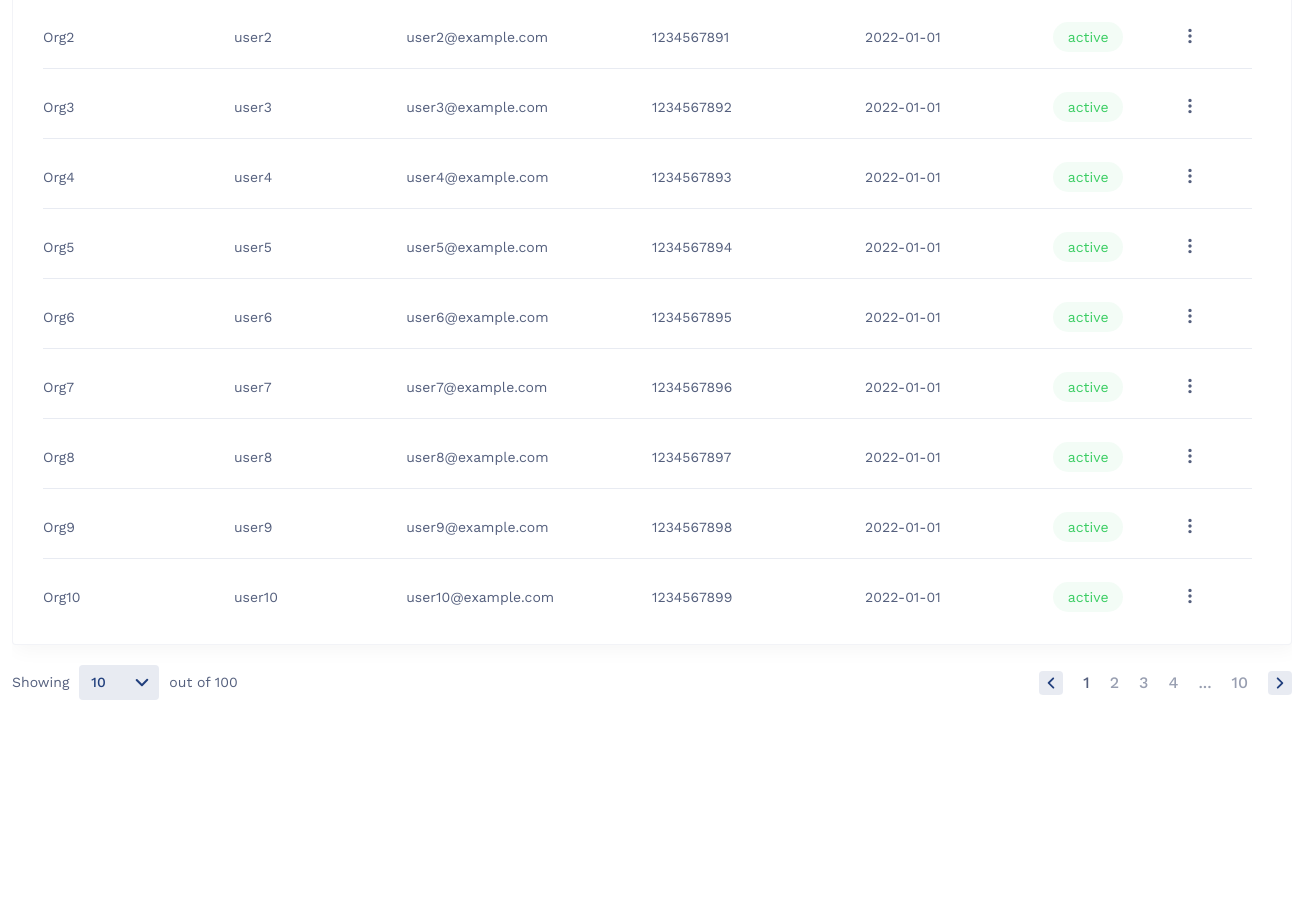
Test case: Users component › updates items per page correctly
(page scrolled)
Select "20" in the dropdown at [119, 683], box x1=79 y1=665 x2=159 y2=700
(page scrolled)
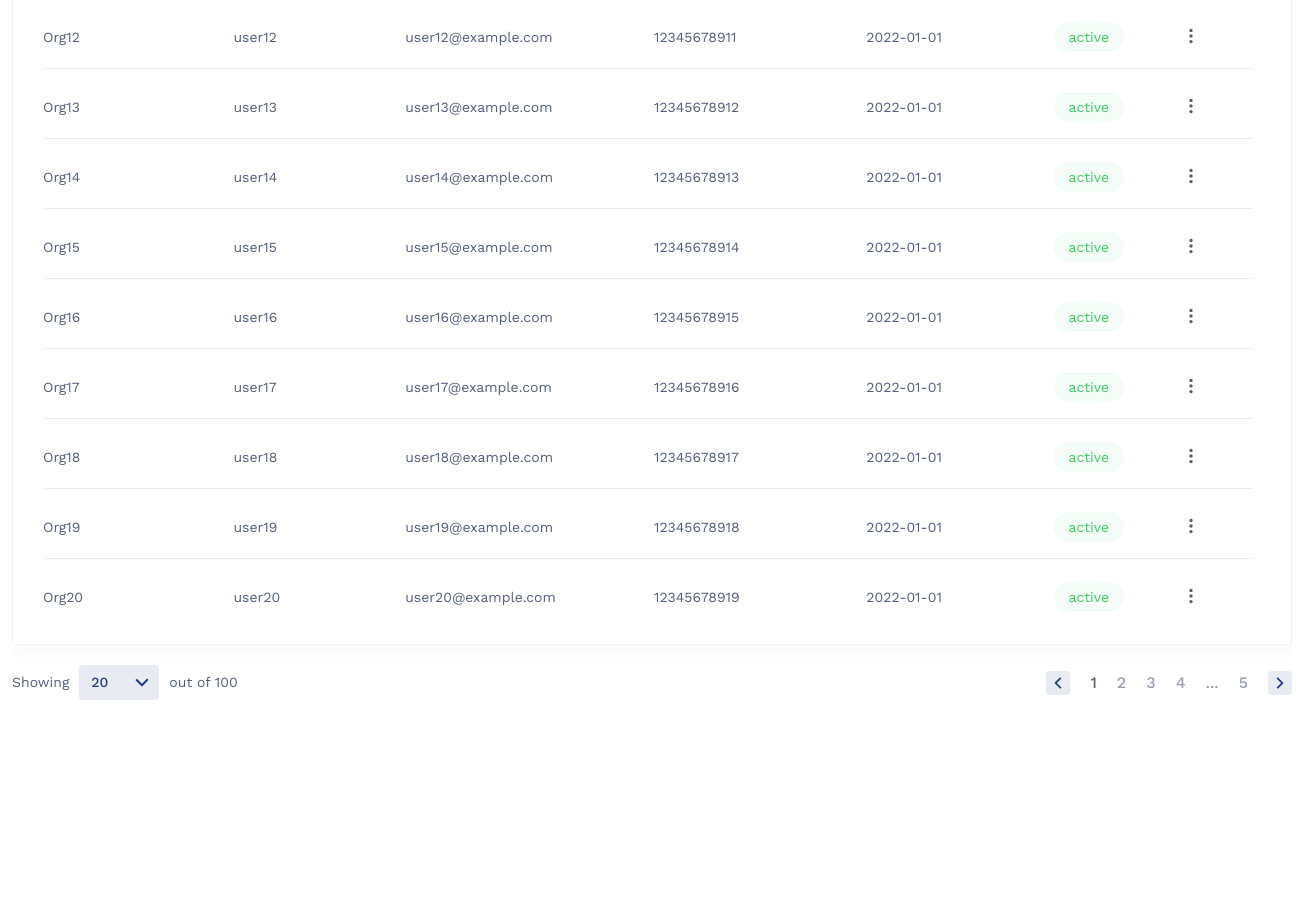
Now the text "user20" is shown, box x1=198 y1=559 x2=370 y2=628
